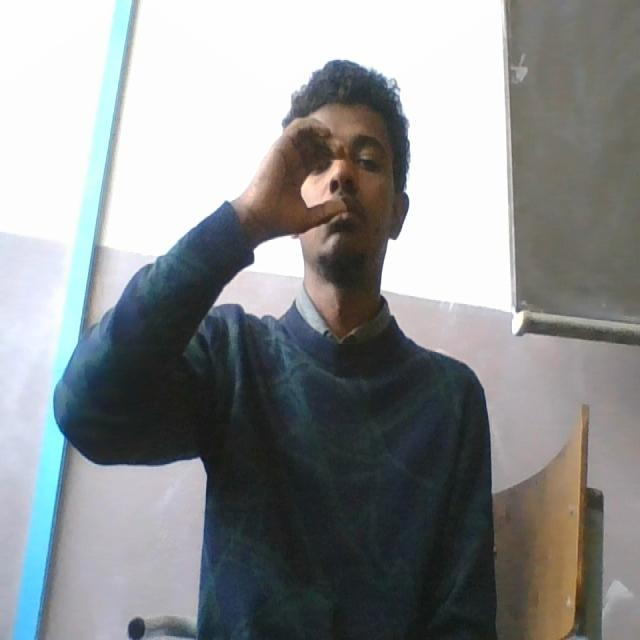metetat: (258, 114, 393, 240)
